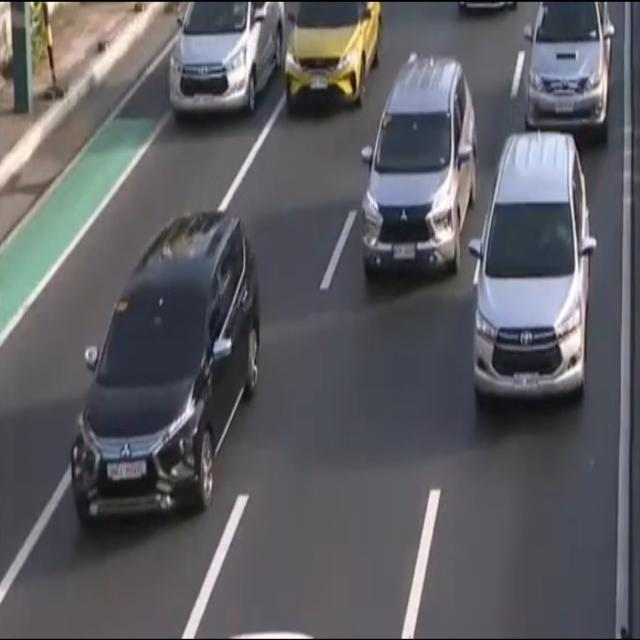SUV: (69, 209, 262, 537), (471, 131, 599, 418), (359, 54, 479, 284), (166, 0, 288, 129), (521, 0, 616, 143), (282, 0, 382, 121)
